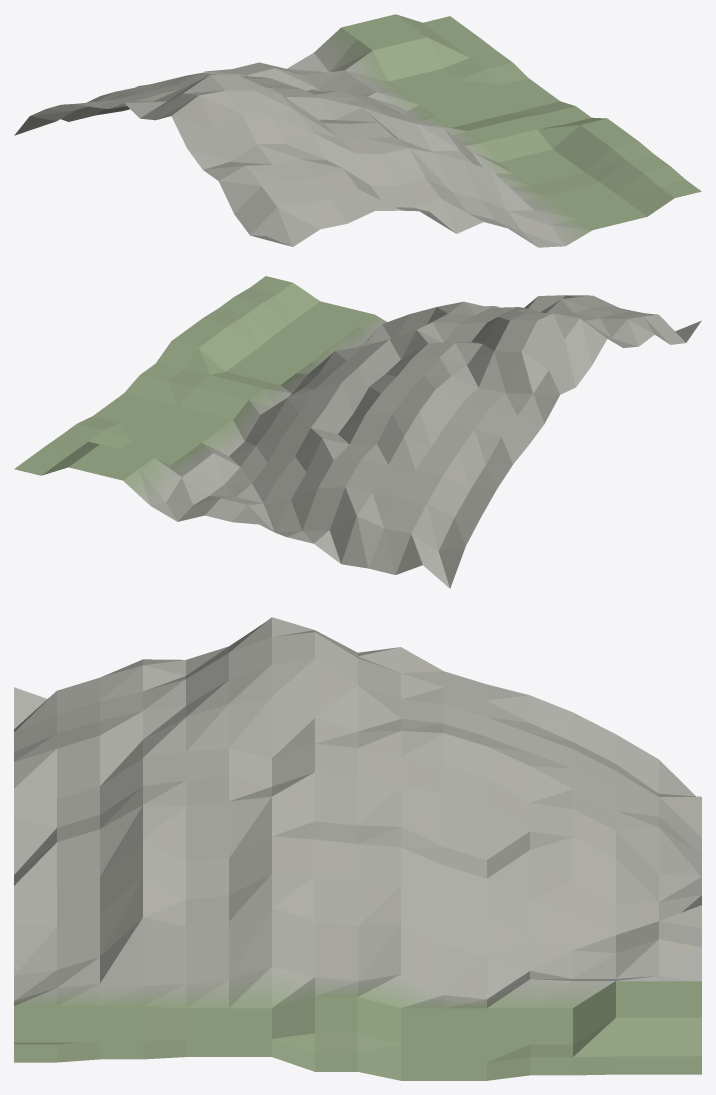
3 views of the same model, one above another, from view 1: azimuth 30°, elevation 25°; view 2: azimuth 150°, elevation 25°; view 3: azimuth 270°, elevation 25° (orthographic). The views are drawn at different scales.
Bounding box in the file's own units: 32 × 10.73 × 32.
